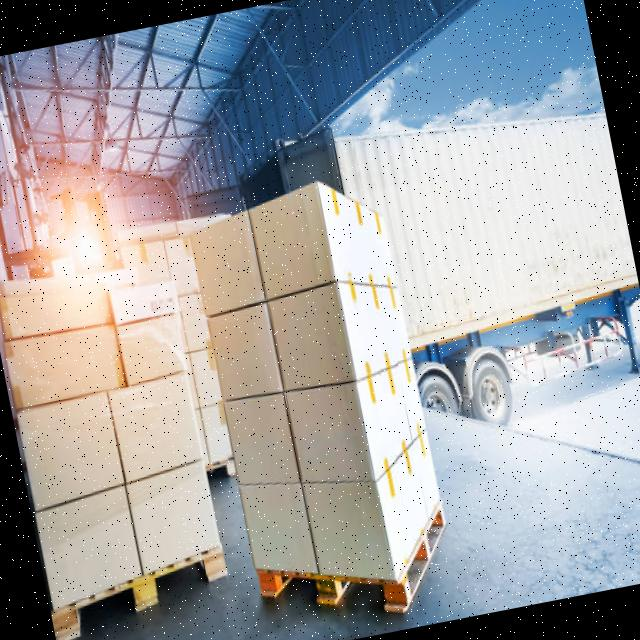Wooden-Pallets: (258, 499, 452, 612), (58, 539, 236, 640)
